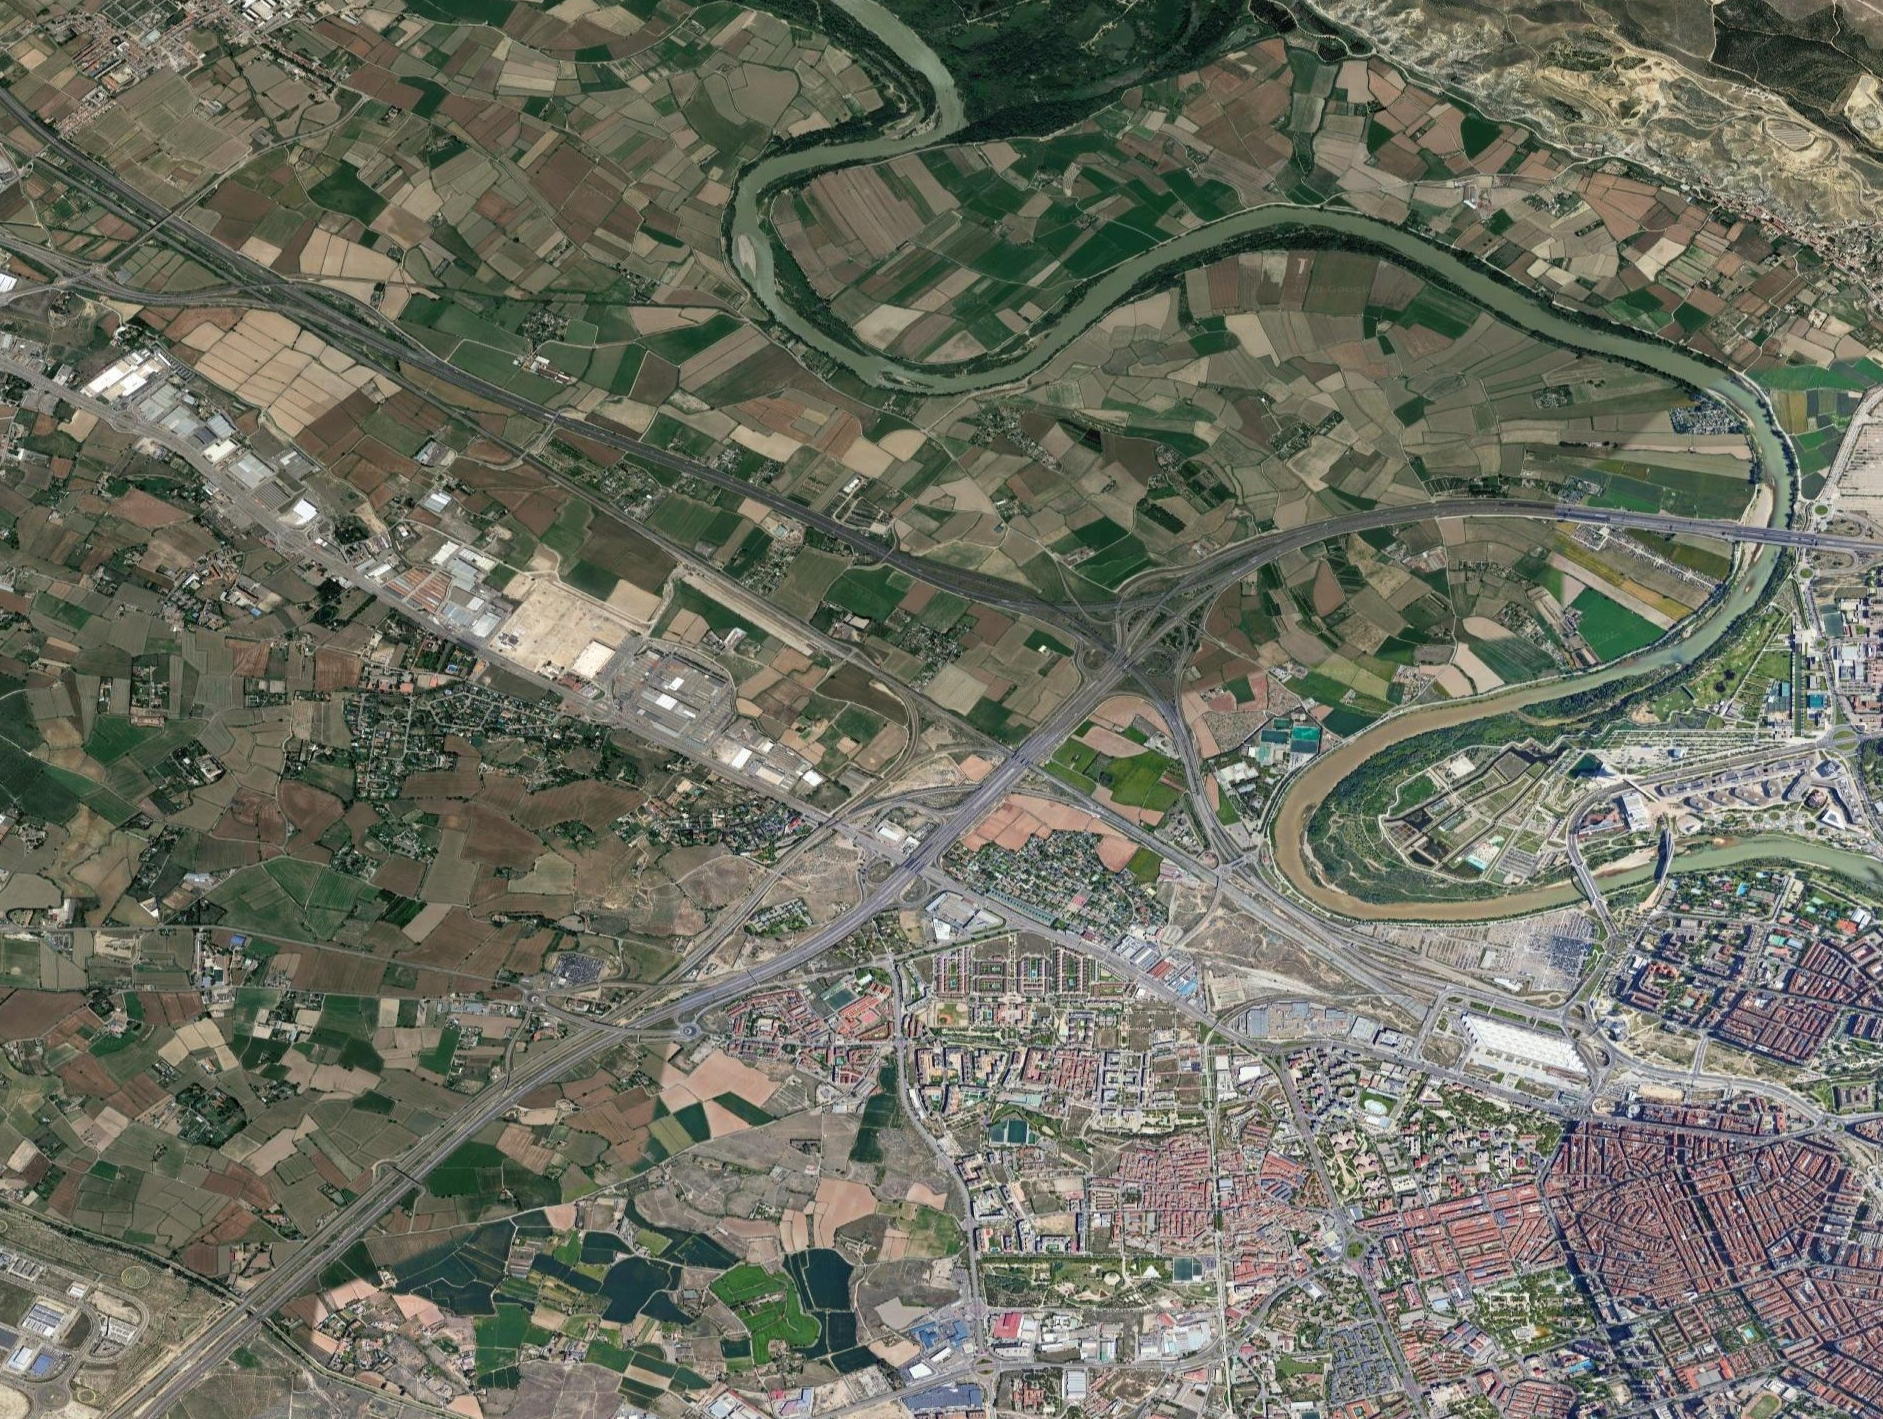bridge: (1741, 507, 1798, 565), (1570, 863, 1612, 911), (1641, 842, 1683, 888)
motorway: (1132, 386, 1883, 647), (72, 1039, 575, 1419), (1, 30, 382, 352), (370, 328, 839, 565), (564, 814, 968, 1040), (810, 493, 1132, 689), (911, 616, 1215, 814), (1370, 949, 1659, 1082), (1169, 803, 1381, 979)
